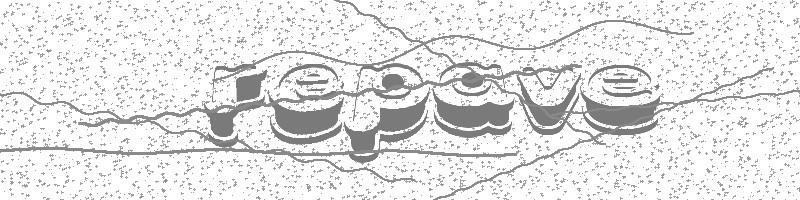a: (427, 59, 514, 139)
e: (268, 65, 346, 143), (578, 66, 664, 135)
p: (344, 61, 431, 166)
r: (203, 61, 270, 155)
v: (511, 64, 581, 139)
